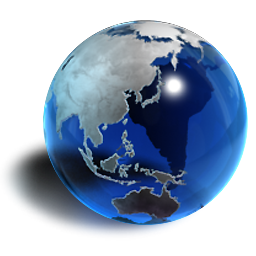planet: (43, 19, 250, 227)
